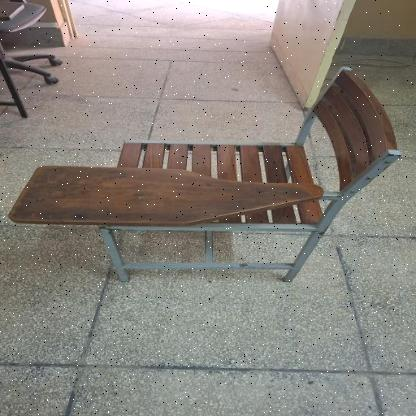chair: (0, 56, 410, 292)
